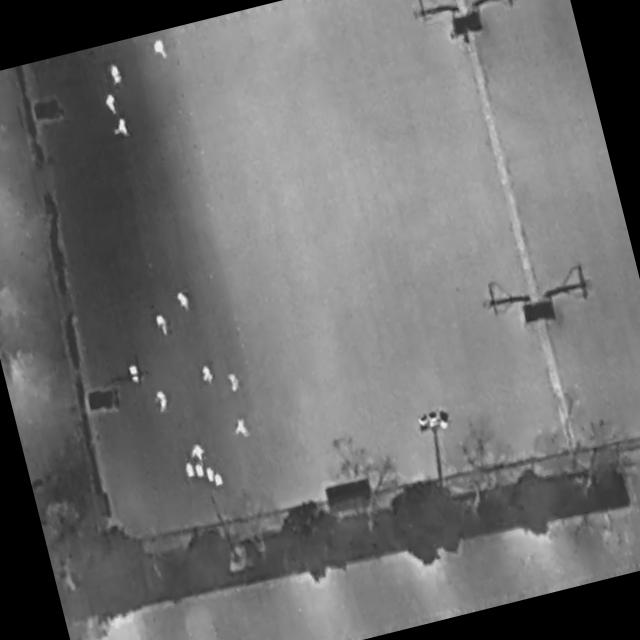person: (172, 287, 195, 316), (154, 312, 172, 339), (152, 39, 170, 64), (189, 443, 208, 465), (232, 418, 251, 440), (103, 94, 120, 117), (155, 391, 172, 414), (199, 363, 215, 387), (227, 373, 243, 396), (127, 364, 143, 387), (113, 119, 131, 139), (108, 63, 124, 85)
